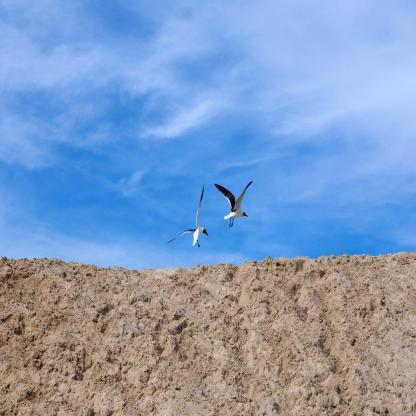bird: (167, 185, 208, 247), (215, 181, 252, 228)
